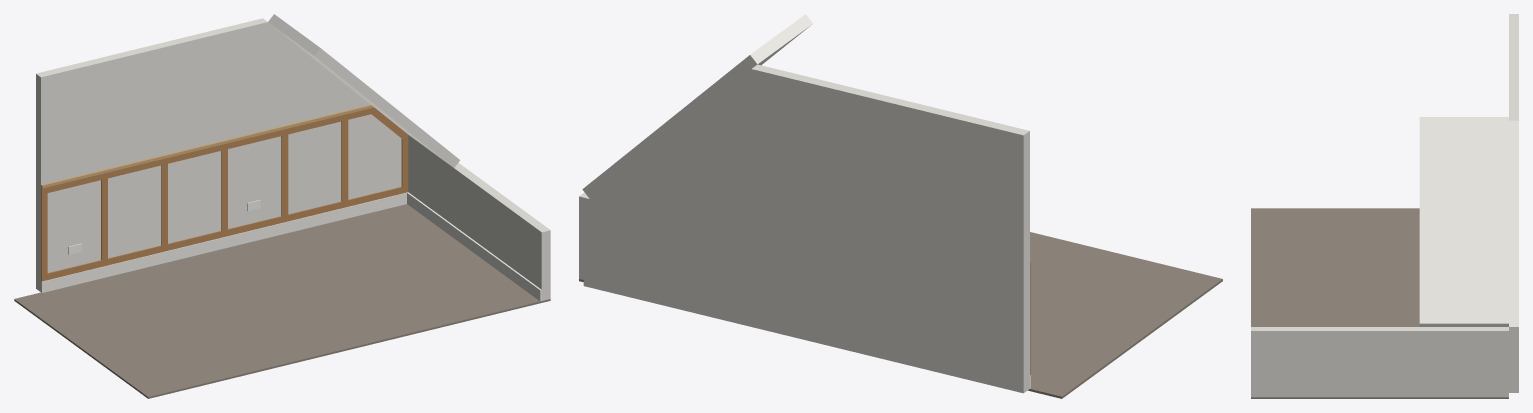
The model's file is wall-panelling-barnet.glb.
3 views of the same model, side by side, from view 1: azimuth 30°, elevation 25°; view 2: azimuth 150°, elevation 25°; view 3: azimuth 270°, elevation 25° (orthographic). The views are drawn at different scales.
Visible parts, largest first — view 1: Room: Back wall, Room: Floor, Room: Knee wall, right, Room: Skirting, Room: Sloping ceiling, Battens: Bottom rail (4105, joined over an upright), Battens: Top rail, Room: Skirting, knee wall, Room: Dado rail (already there), Battens: Upright 5 (862), Battens: Upright 6 (862), Battens: Upright 2 (862) (+3 smaller); view 2: Room: Back wall, Room: Floor, Room: Sloping ceiling; view 3: Room: Floor, Room: Sloping ceiling, Room: Knee wall, right, Room: Back wall.
Part boxes in pixels (<box>): Room: Back wall: <box>36,18,401,291</box>; Room: Floor: <box>14,204,550,398</box>; Room: Knee wall, right: <box>408,135,550,300</box>; Room: Skirting: <box>41,192,407,292</box>; Room: Sloping ceiling: <box>268,14,459,167</box>; Battens: Bottom rail (4105, joined over an upright): <box>41,186,408,281</box>; Battens: Top rail: <box>41,107,373,194</box>; Room: Skirting, knee wall: <box>407,192,541,301</box>; Room: Dado rail (already there): <box>41,104,373,188</box>; Battens: Upright 5 (862): <box>281,134,288,216</box>; Battens: Upright 6 (862): <box>341,120,348,201</box>; Battens: Upright 2 (862): <box>101,178,107,260</box>; Room: Back wall: <box>583,64,1029,393</box>; Room: Floor: <box>579,232,1222,398</box>; Room: Sloping ceiling: <box>582,14,812,198</box>; Room: Floor: <box>1251,208,1508,398</box>; Room: Sloping ceiling: <box>1419,117,1508,326</box>; Room: Knee wall, right: <box>1251,327,1508,397</box>; Room: Back wall: <box>1509,14,1518,392</box>.
Size of the model in its own units: 4.5 by 2.39 by 2.7.
